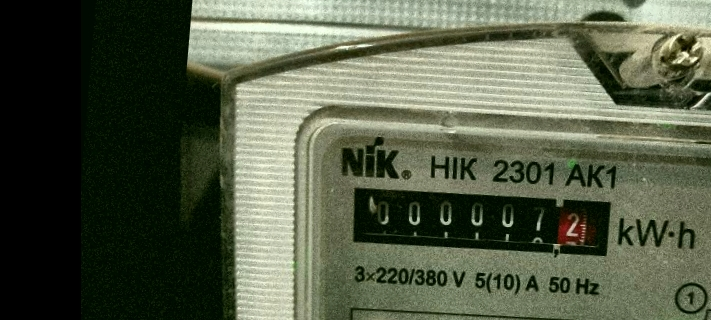0: (373, 197, 392, 225), (467, 199, 486, 227), (436, 197, 454, 226), (499, 200, 516, 230), (405, 198, 423, 226)
2: (563, 211, 582, 238)
7: (530, 202, 547, 233)
screen: (338, 173, 623, 268)
